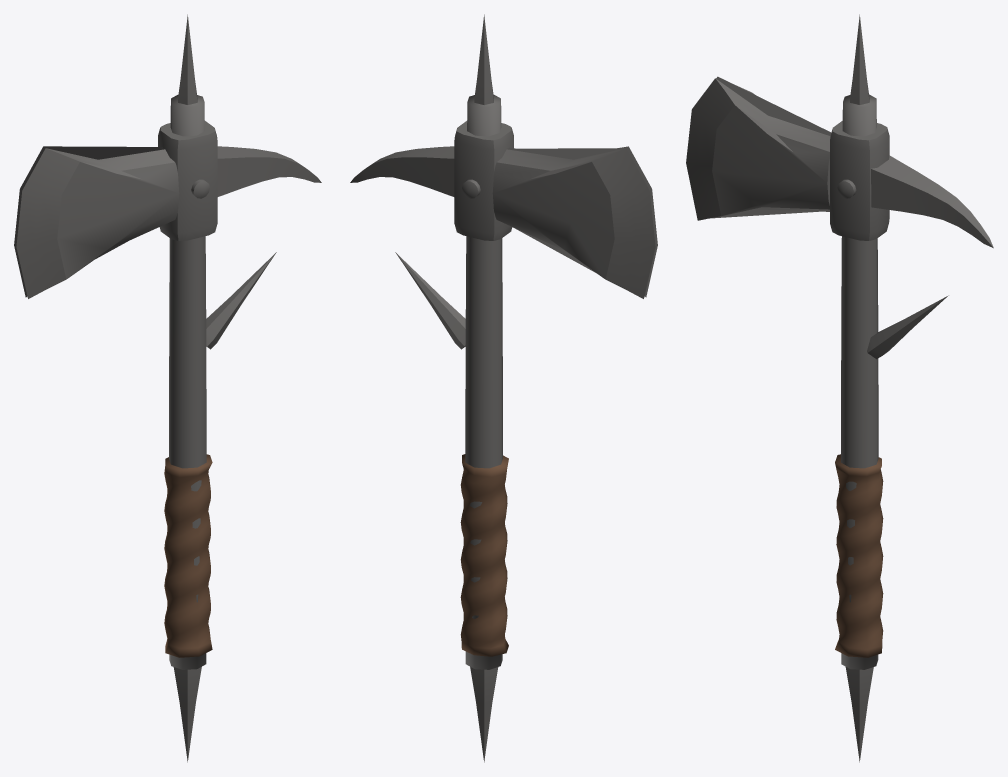
The model's file is hurlbat.glb.
3 renders of one model, left to right at view 1: azimuth 30°, elevation 25°; view 2: azimuth 150°, elevation 25°; view 3: azimuth 330°, elevation 25°, orthographic.
Visible parts, largest first — view 1: hurlbat; view 2: hurlbat; view 3: hurlbat.
Part boxes in pixels (box(x1,y1,x2,y2)): hurlbat: box(14, 14, 321, 762); hurlbat: box(350, 14, 657, 762); hurlbat: box(686, 14, 993, 762).
Bounding box in the file's own units: 0.4457 × 1.04 × 0.0808.
